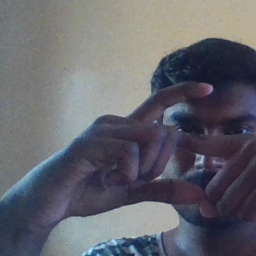E: (127, 77, 234, 208)
